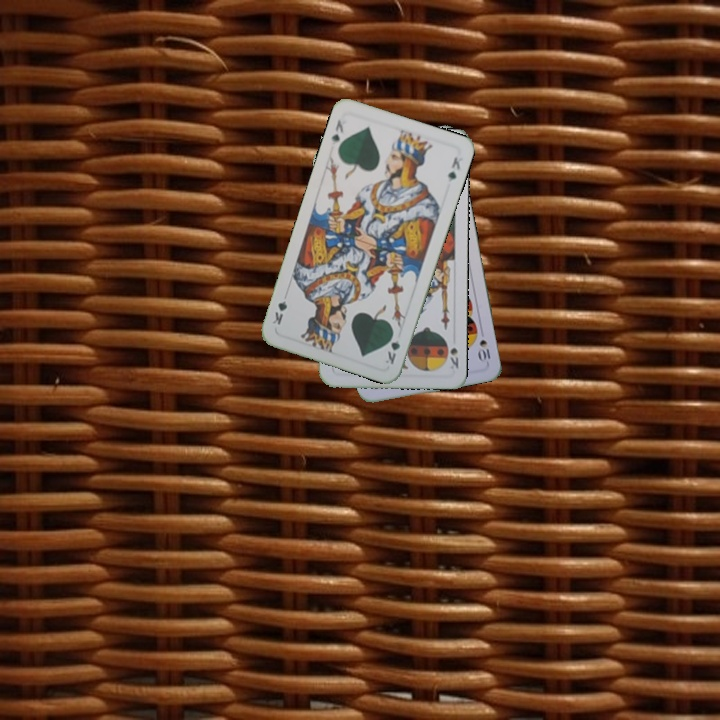GK: (381, 327, 403, 367), (327, 115, 347, 148)
S10: (475, 325, 493, 365)
SK: (446, 343, 461, 371)
